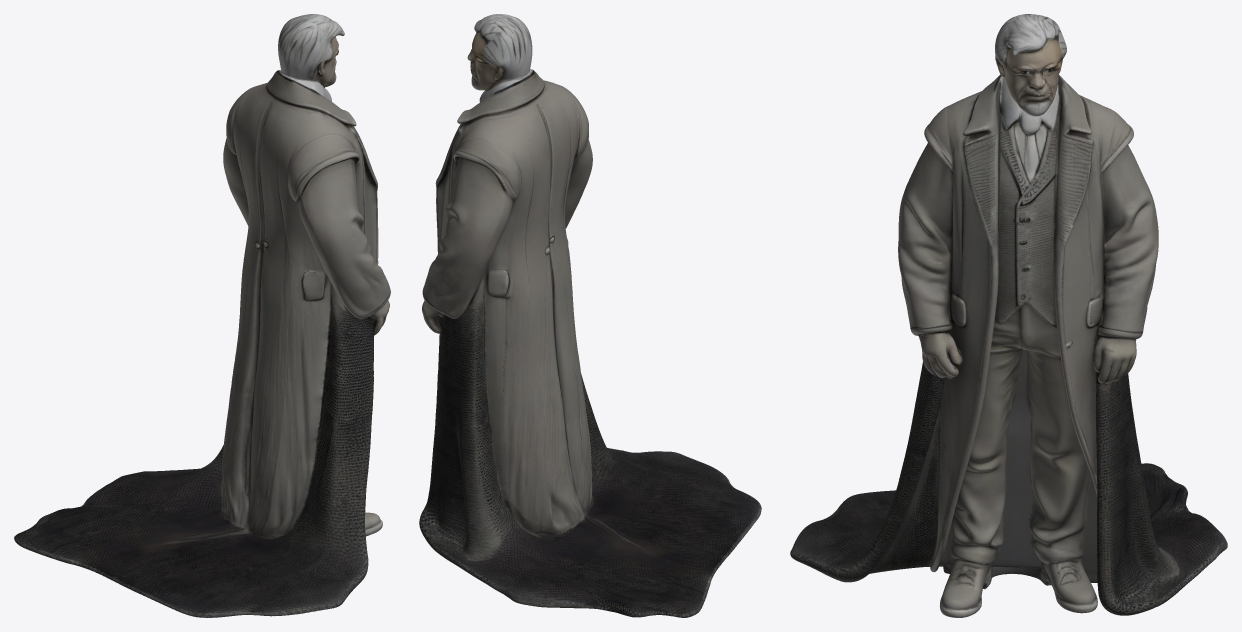
The model's file is detailed_realistic_model_albusdumbledore_14.glb.
3 views of the same model, side by side, from view 1: azimuth 30°, elevation 25°; view 2: azimuth 150°, elevation 25°; view 3: azimuth 270°, elevation 25° (orthographic). The views are drawn at different scales.
Parts seen in each view (by area): view 1: tripo_node_23eae24c-f29b-49ad-8ae5-16297d78752c; view 2: tripo_node_23eae24c-f29b-49ad-8ae5-16297d78752c; view 3: tripo_node_23eae24c-f29b-49ad-8ae5-16297d78752c.
Part boxes in pixels (x1,y1,x2,y2): tripo_node_23eae24c-f29b-49ad-8ae5-16297d78752c: [14, 14, 390, 617]; tripo_node_23eae24c-f29b-49ad-8ae5-16297d78752c: [419, 14, 761, 617]; tripo_node_23eae24c-f29b-49ad-8ae5-16297d78752c: [790, 14, 1227, 617].
Bounding box in the file's own units: 0.6137 × 1 × 0.6699.
Materials: 1 (1 with a texture image).
